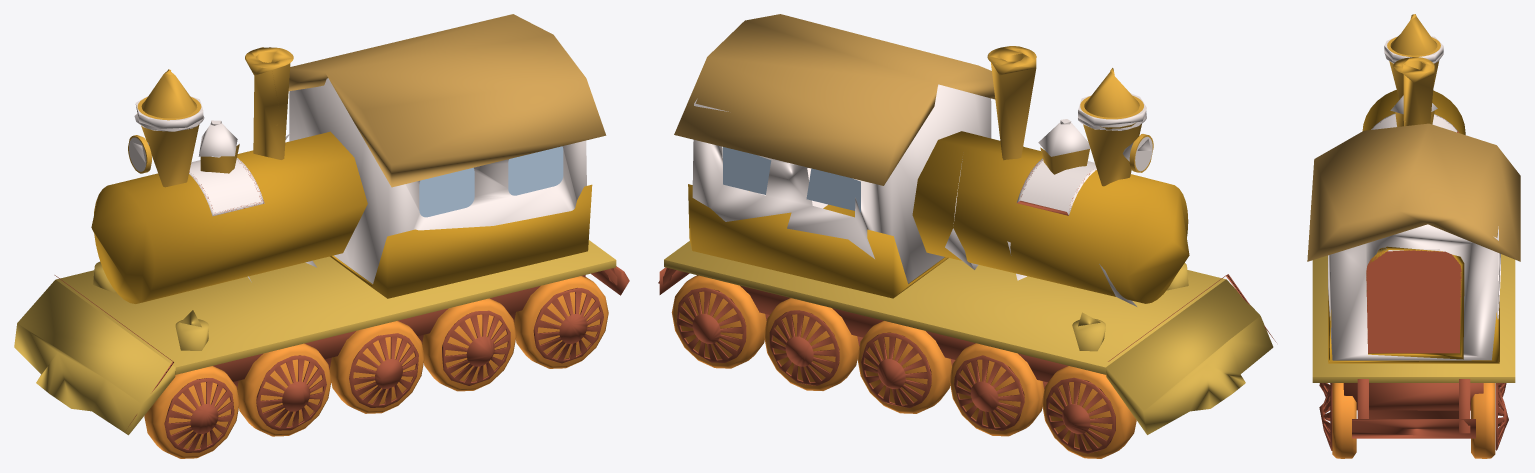
File: Train.glb
3 views of the same model, side by side, from view 1: azimuth 30°, elevation 25°; view 2: azimuth 150°, elevation 25°; view 3: azimuth 270°, elevation 25° (orthographic). The views are drawn at different scales.
Visible parts, largest first — view 1: 3d66-Editable_Poly-22928113-011; view 2: 3d66-Editable_Poly-22928113-011; view 3: 3d66-Editable_Poly-22928113-011.
Part boxes in pixels (left/top/right/bottom): 3d66-Editable_Poly-22928113-011: left=14, top=14, right=629, bottom=458; 3d66-Editable_Poly-22928113-011: left=658, top=14, right=1276, bottom=458; 3d66-Editable_Poly-22928113-011: left=1307, top=14, right=1520, bottom=458.
Bounding box in the file's own units: 1.13 × 0.6952 × 0.4533.
Materials: 1 (1 with a texture image).
